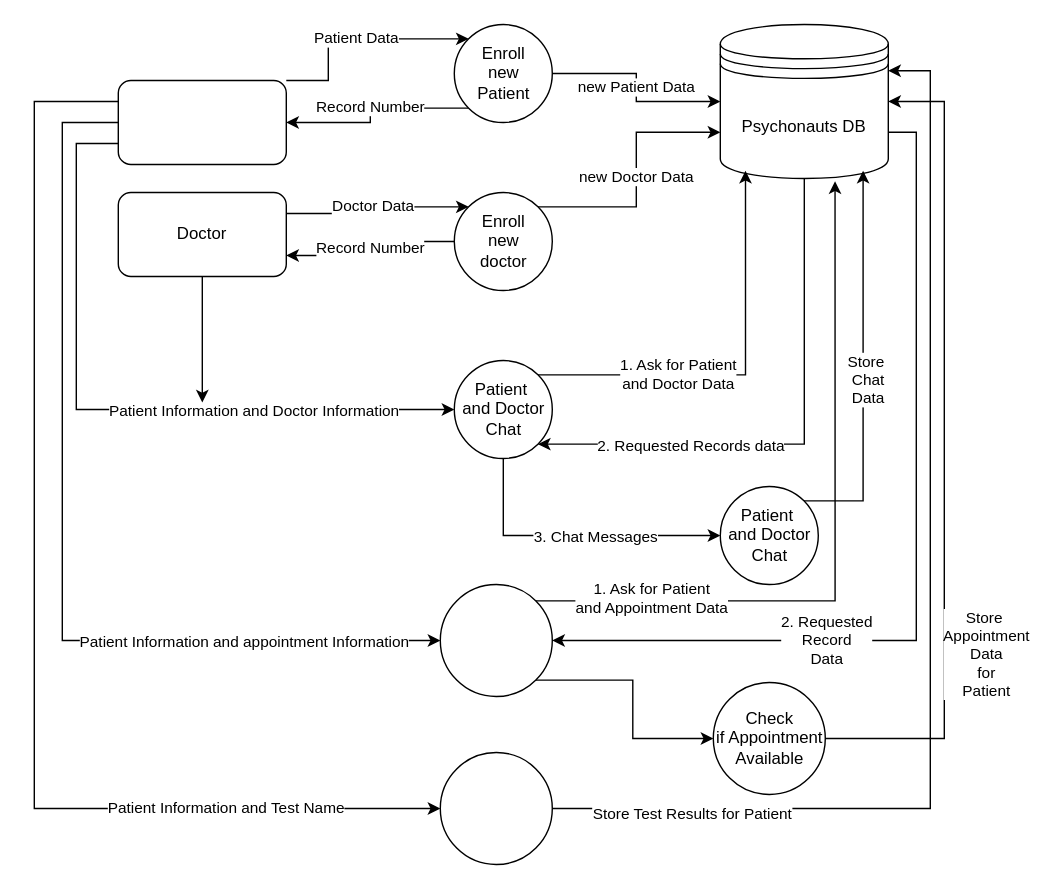
Some shapes in this 1054 by 889 pixel diagram are drawn without their labels. The centre of each missing label's shape, as x and y in pixels:
"Patient" goes at (x=201, y=121).
"Reserve a new appointment" goes at (x=495, y=639).
"Take Test" goes at (x=495, y=807).
